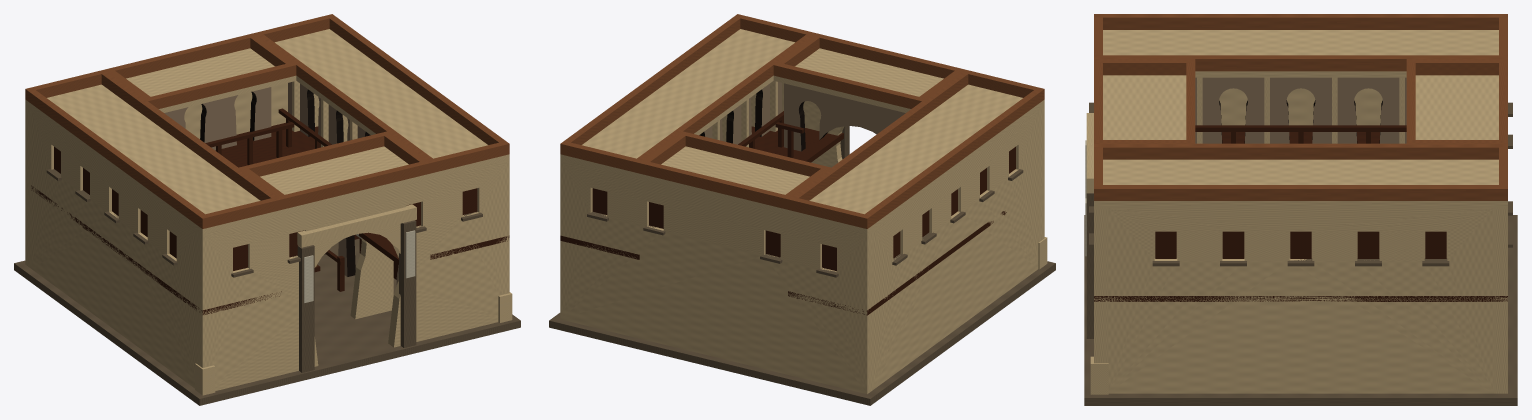
File: Berber_Funduq_Age3.fbx
The picture shows the model from 3 angles, left to right: view 1: azimuth 30°, elevation 25°; view 2: azimuth 150°, elevation 25°; view 3: azimuth 270°, elevation 25°; orthographic projection. The views are drawn at different scales.
Parts seen in each view (by area): view 1: south_outer_wall, west_outer_wall, foundation, west_roof, east_roof, south_roof, north_roof, west_roof_parapet, west_roof_parapet.001, east_roof_parapet.001, north_merchant_rooms, north_outer_wall (+26 smaller); view 2: north_outer_wall, west_outer_wall, west_roof, east_roof, foundation, north_roof, south_roof, south_merchant_rooms, west_roof_parapet, west_roof_parapet.001, east_roof_parapet.001, east_roof_parapet (+16 smaller); view 3: east_outer_wall, east_roof, west_roof, west_merchant_room_front, foundation, east_roof_parapet, east_roof_parapet.001, west_roof_parapet, north_roof, south_roof, west_roof_parapet.001, west_outer_wall (+21 smaller).
Boxes of the visible parts, <box> form: south_outer_wall: <box>196,159,509,390</box>; west_outer_wall: <box>31,109,196,388</box>; foundation: <box>14,238,520,405</box>; west_roof: <box>25,84,281,234</box>; east_roof: <box>275,29,509,178</box>; south_roof: <box>260,146,430,214</box>; north_roof: <box>126,48,296,112</box>; west_roof_parapet: <box>25,87,209,228</box>; west_roof_parapet.001: <box>98,69,281,211</box>; east_roof_parapet.001: <box>326,14,509,155</box>; north_merchant_rooms: <box>164,87,271,150</box>; north_outer_wall: <box>25,83,287,268</box>; north_outer_wall: <box>560,159,873,394</box>; west_outer_wall: <box>873,109,1038,389</box>; west_roof: <box>788,84,1044,234</box>; east_roof: <box>560,29,794,178</box>; foundation: <box>549,261,1055,405</box>; north_roof: <box>639,146,809,214</box>; south_roof: <box>773,48,943,112</box>; south_merchant_rooms: <box>784,83,905,151</box>; west_roof_parapet: <box>860,87,1044,228</box>; west_roof_parapet.001: <box>788,69,971,211</box>; east_roof_parapet.001: <box>560,14,743,155</box>; east_roof_parapet: <box>633,31,816,173</box>; east_outer_wall: <box>1107,207,1494,393</box>; east_roof: <box>1094,159,1507,207</box>; west_roof: <box>1103,30,1498,77</box>; west_merchant_room_front: <box>1195,77,1406,143</box>; foundation: <box>1084,215,1517,405</box>; east_roof_parapet: <box>1094,143,1507,159</box>; east_roof_parapet.001: <box>1094,185,1507,200</box>; west_roof_parapet: <box>1094,14,1507,29</box>; north_roof: <box>1415,75,1498,139</box>; south_roof: <box>1103,75,1186,139</box>; west_roof_parapet.001: <box>1094,55,1507,71</box>; west_outer_wall: <box>1219,88,1382,125</box>.
Size of the model in its own units: 770 by 418 by 770.
7 materials, 7 textured.
